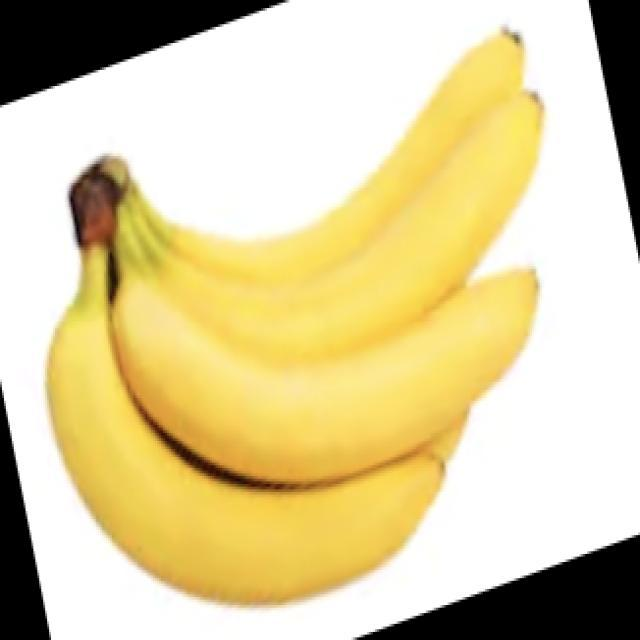Banana: (44, 23, 545, 606)
